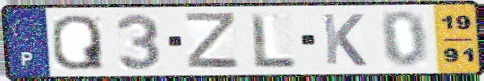0: (378, 9, 430, 69)
3: (113, 11, 162, 72)
K: (319, 12, 370, 69)
L: (247, 11, 299, 71)
Q: (49, 13, 107, 72)
Z: (183, 10, 242, 71)
